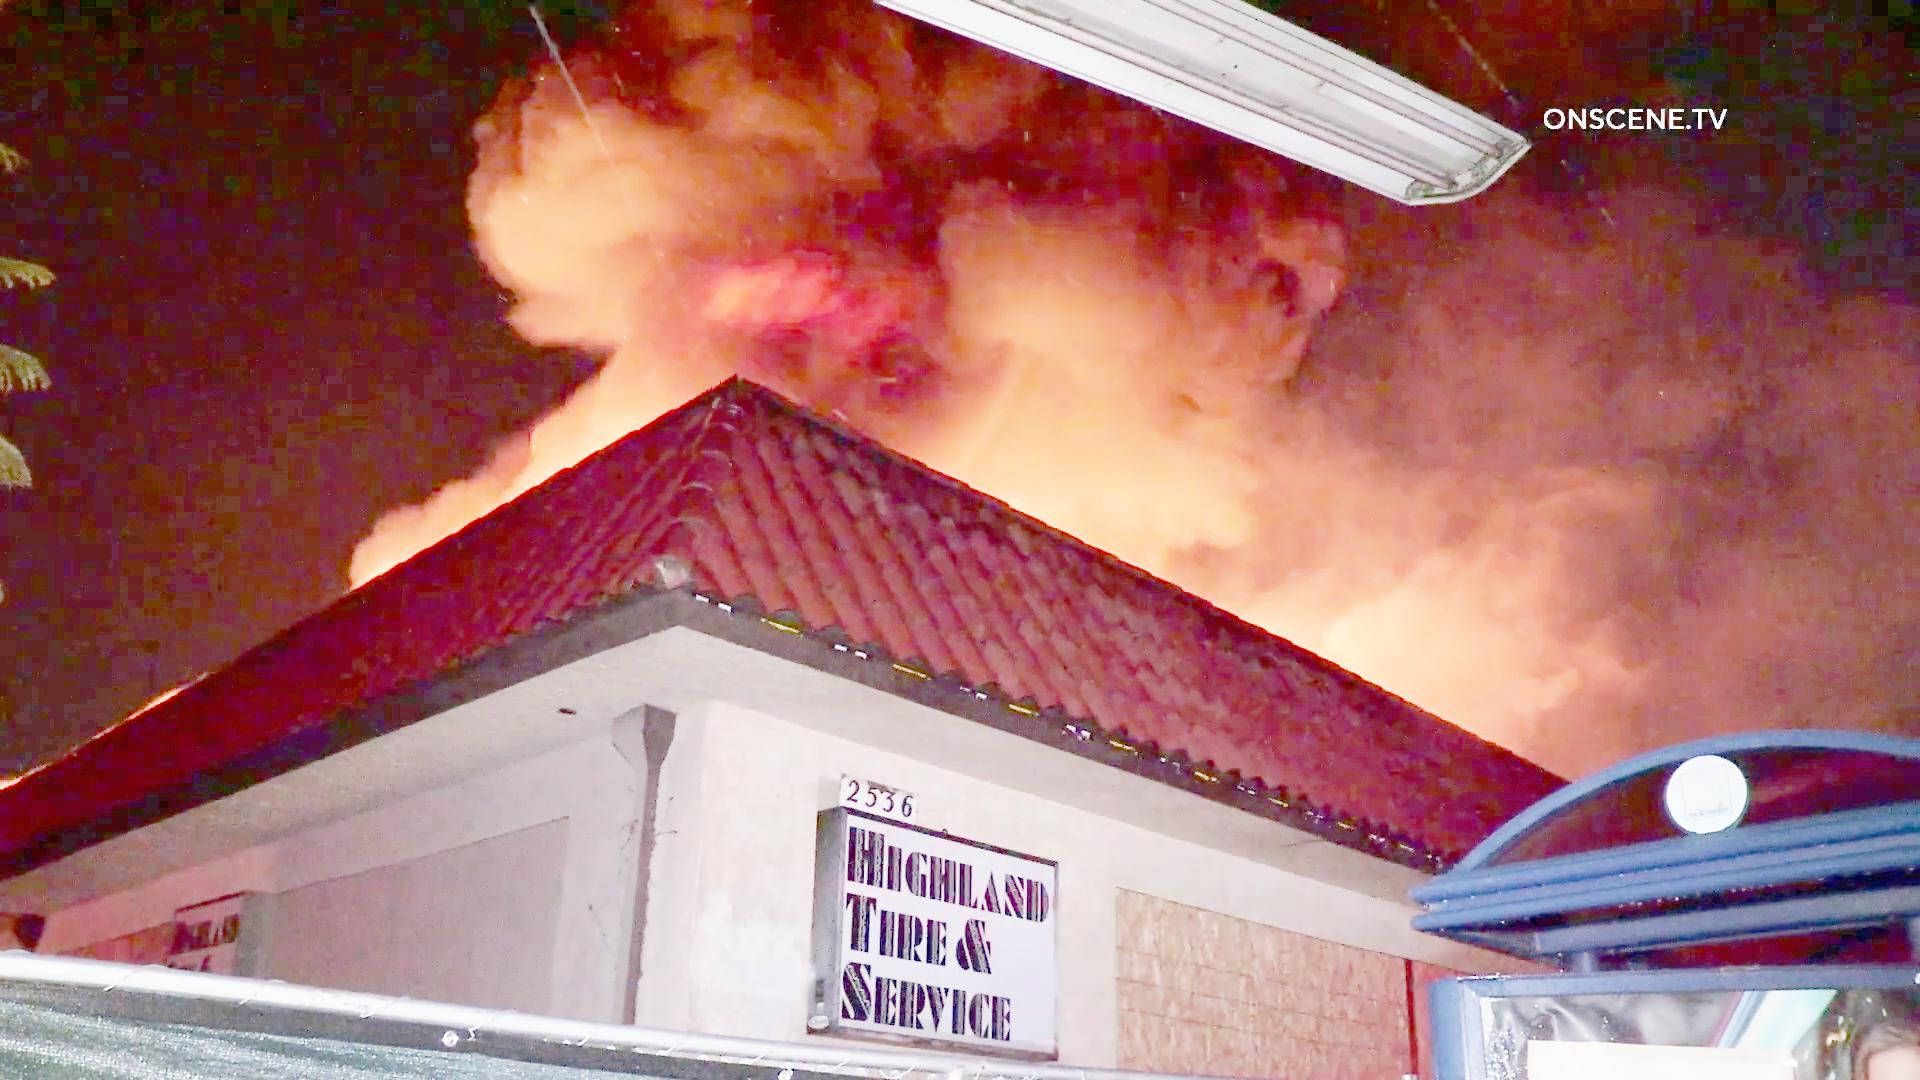smoke: (1116, 303, 1830, 556), (496, 100, 1063, 381)
